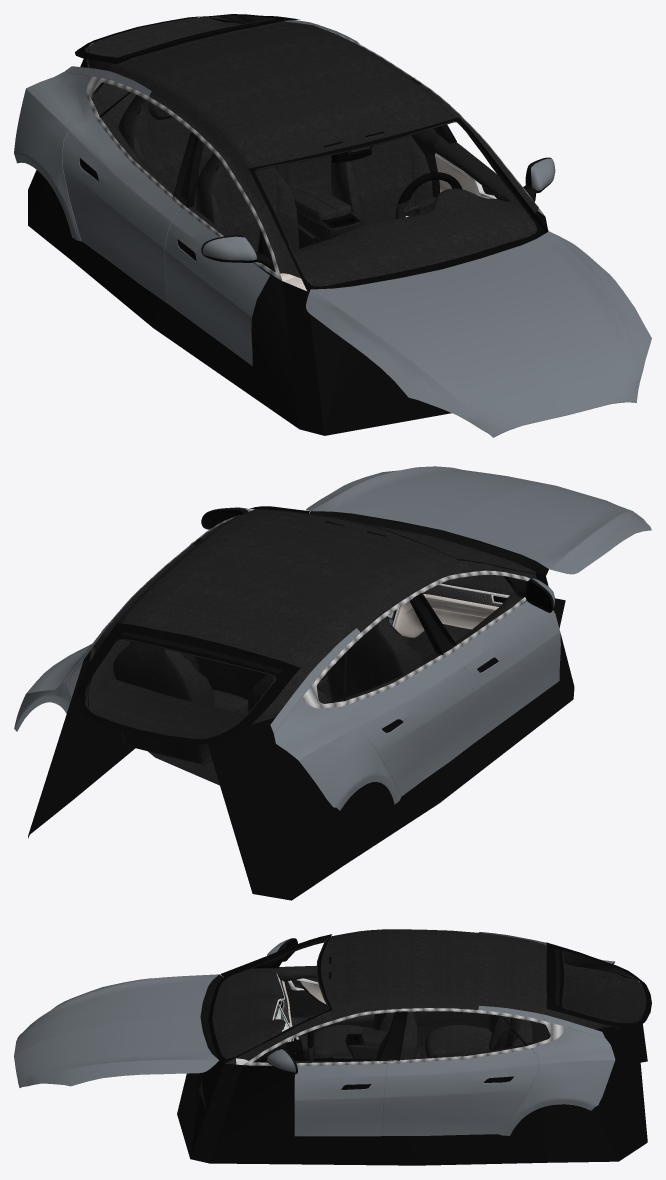
Rendered from tesla_int.FBX.
3 views of the same model, one above another, from view 1: azimuth 30°, elevation 25°; view 2: azimuth 150°, elevation 25°; view 3: azimuth 270°, elevation 25° (orthographic). The views are drawn at different scales.
Parts seen in each view (by area): view 1: tesla_int, obj1, swheel; view 2: tesla_int, obj1; view 3: tesla_int, obj1.
Part boxes in pixels (x1=…): tesla_int: x1=14, y1=14, x2=651, y2=437; obj1: x1=28, y1=17, x2=548, y2=435; swheel: x1=395, y1=172, x2=462, y2=218; tesla_int: x1=14, y1=466, x2=651, y2=810; obj1: x1=28, y1=514, x2=574, y2=900; tesla_int: x1=14, y1=929, x2=651, y2=1136; obj1: x1=177, y1=971, x2=647, y2=1165.
Size of the model in its own units: 23.4 by 13.26 by 49.74.
